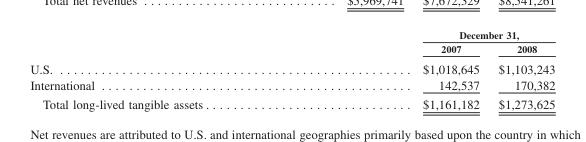table: (29, 28, 554, 110)
table column: (29, 28, 315, 110), (315, 28, 488, 110), (488, 28, 554, 110)
table column header: (29, 28, 554, 57)
table row: (29, 57, 554, 76), (29, 76, 554, 94), (29, 41, 554, 57), (29, 94, 554, 110), (29, 28, 554, 41)
table spanning cell: (315, 28, 554, 41)
